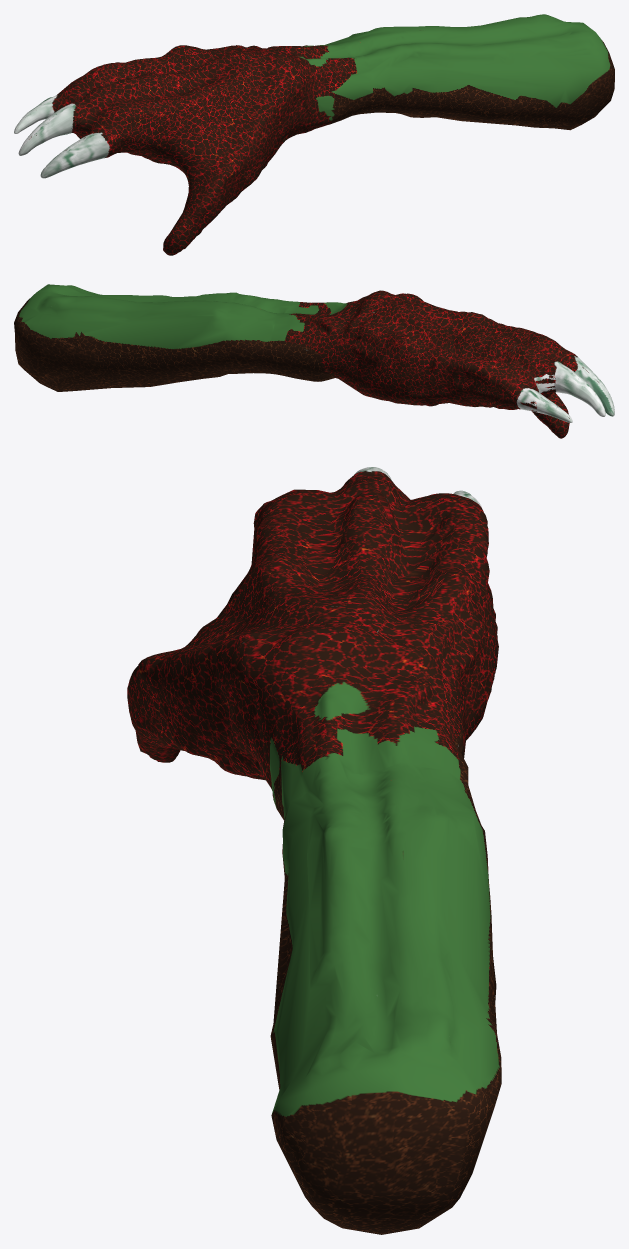
The model's file is monster_hands_copy.fbx.
The picture shows the model from 3 angles, top to bottom: view 1: azimuth 30°, elevation 25°; view 2: azimuth 150°, elevation 25°; view 3: azimuth 270°, elevation 25°; orthographic projection. The views are drawn at different scales.
Visible parts, largest first — view 1: Sphere.002; view 2: Sphere.002; view 3: Sphere.002.
Part boxes in pixels (box(x1,y1,x2,y2)): Sphere.002: box(14, 14, 614, 255); Sphere.002: box(14, 284, 614, 438); Sphere.002: box(127, 467, 501, 1234).
Size of the model in its own units: 1695 by 440 by 474.
Materials: 1 (1 with a texture image).
